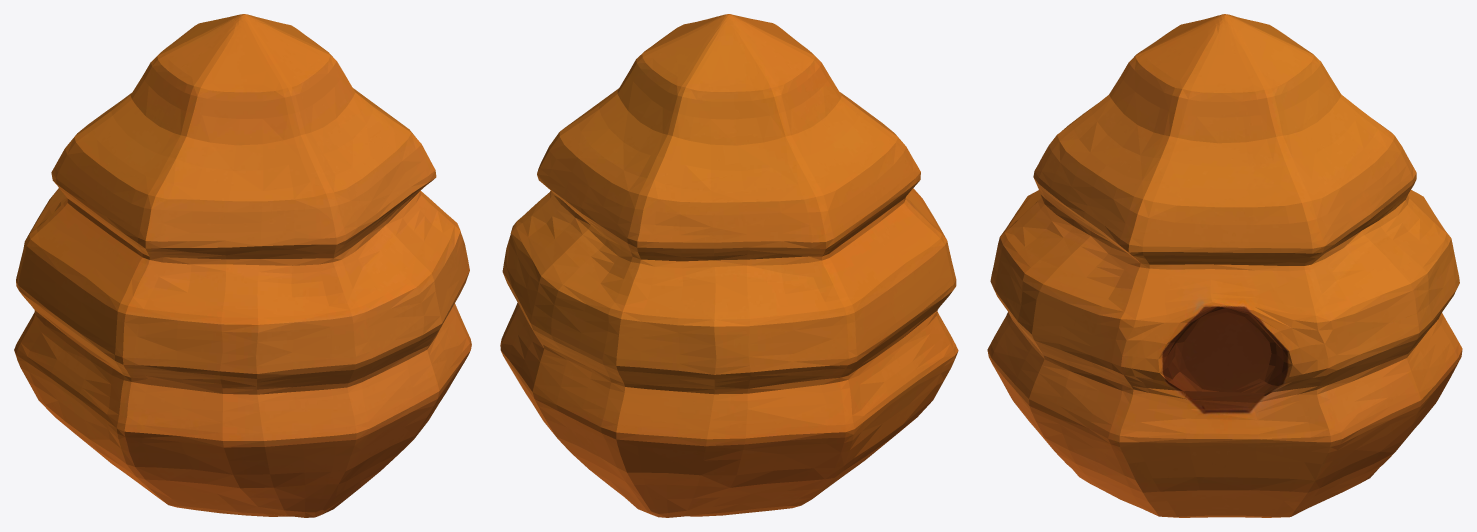
File: panal.glb
3 renders of one model, left to right at view 1: azimuth 30°, elevation 25°; view 2: azimuth 150°, elevation 25°; view 3: azimuth 270°, elevation 25°, orthographic.
Parts seen in each view (by area): view 1: tripo_node_dc99bb51-50e8-483e-b9c8-77e94d6d9f2b; view 2: tripo_node_dc99bb51-50e8-483e-b9c8-77e94d6d9f2b; view 3: tripo_node_dc99bb51-50e8-483e-b9c8-77e94d6d9f2b.
Boxes of the visible parts, x1,y1,x2,y2 form: tripo_node_dc99bb51-50e8-483e-b9c8-77e94d6d9f2b: (14, 14, 471, 517); tripo_node_dc99bb51-50e8-483e-b9c8-77e94d6d9f2b: (500, 14, 958, 517); tripo_node_dc99bb51-50e8-483e-b9c8-77e94d6d9f2b: (987, 14, 1462, 517).
Size of the model in its own units: 0.7994 by 0.9969 by 0.9081.
Materials: 1 (1 with a texture image).
